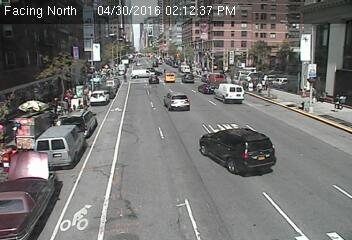neg: (254, 150, 285, 191), (300, 192, 330, 232), (115, 161, 140, 194), (173, 79, 196, 110), (203, 165, 225, 195), (302, 117, 324, 147), (218, 14, 240, 44), (80, 149, 102, 178), (131, 57, 152, 85), (92, 22, 112, 49), (296, 68, 316, 94), (139, 116, 158, 142), (237, 86, 256, 111), (71, 200, 90, 225), (253, 41, 272, 66), (78, 85, 96, 110), (67, 116, 85, 141), (25, 71, 42, 94), (328, 89, 345, 112), (183, 129, 199, 151), (15, 40, 31, 61), (249, 122, 264, 142), (324, 28, 339, 48), (28, 109, 42, 127)
